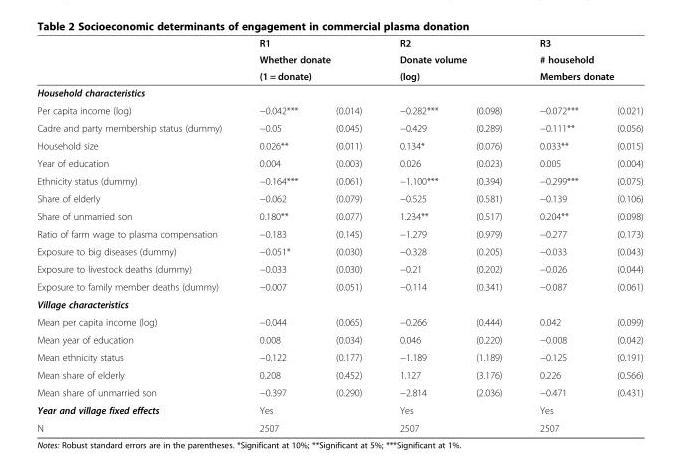table: (36, 36, 642, 433)
table column: (36, 36, 240, 433), (520, 36, 597, 433), (240, 36, 316, 433), (380, 36, 456, 433), (316, 36, 380, 433), (456, 36, 520, 433), (597, 36, 642, 433)
table column header: (36, 36, 642, 118)
table projected row header: (36, 295, 642, 312)
table row: (36, 118, 642, 136), (36, 136, 642, 154), (36, 171, 642, 189), (36, 189, 642, 207), (36, 224, 642, 242), (36, 259, 642, 277), (36, 277, 642, 295), (36, 312, 642, 330), (36, 347, 642, 365), (36, 365, 642, 383), (36, 383, 642, 401), (36, 50, 642, 67), (36, 67, 642, 84), (36, 84, 642, 101), (36, 101, 642, 118), (36, 154, 642, 171), (36, 207, 642, 224), (36, 242, 642, 259), (36, 295, 642, 312), (36, 330, 642, 347), (36, 401, 642, 418), (36, 418, 642, 433), (36, 36, 642, 50)
table spanning cell: (36, 36, 240, 118), (240, 36, 380, 101), (380, 36, 520, 101), (520, 36, 642, 101), (240, 401, 380, 418), (380, 401, 520, 418), (240, 418, 380, 433), (380, 418, 520, 433), (520, 401, 642, 418), (520, 418, 642, 433)
